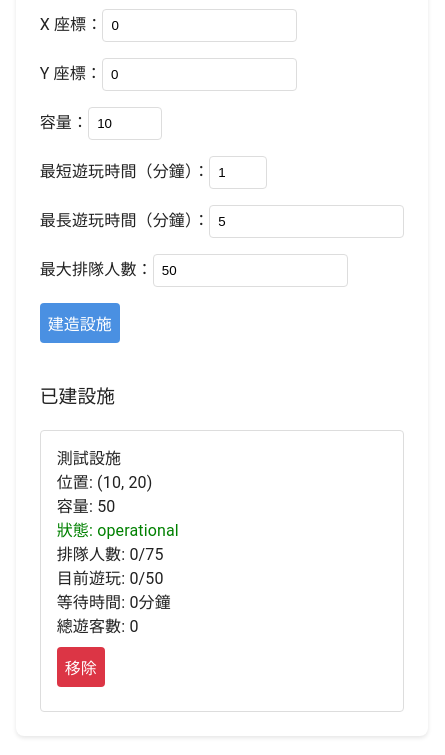
it: FacilityBuilderPanel › 應該能夠儲存設施編輯
(page scrolled)
Click the element with test id "facility-info".
click(118, 542)  # box [57,449,179,636]
(page scrolled)
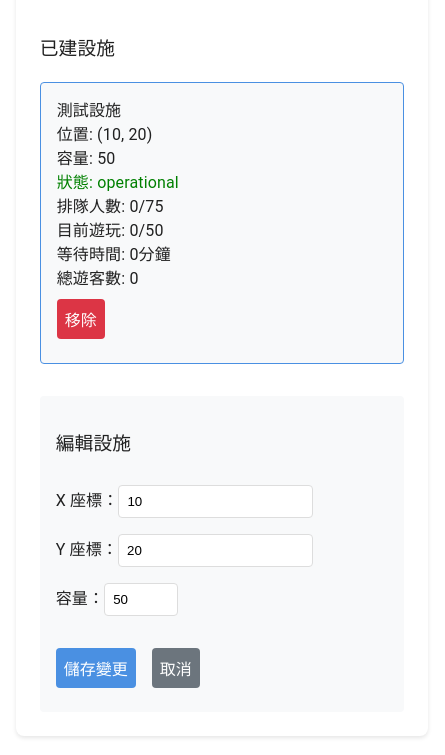
Replace the text in the number field with test id "edit-x-coord" with "15" at [216, 502], box [118,485,313,518]
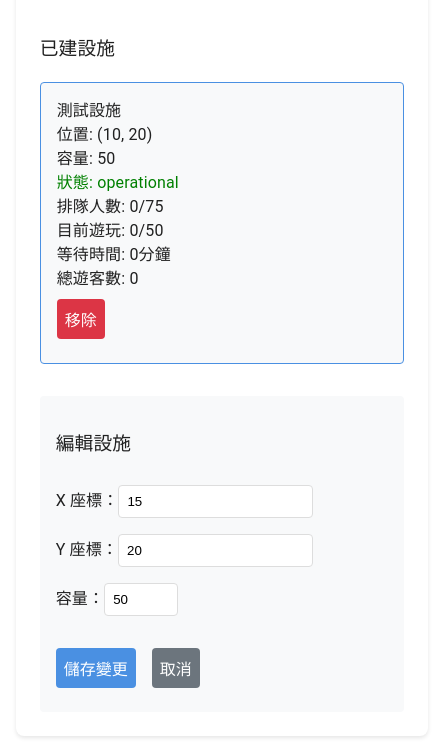
Replace the text in the number field with test id "edit-y-coord" with "25" at [216, 551], box [118,534,313,567]
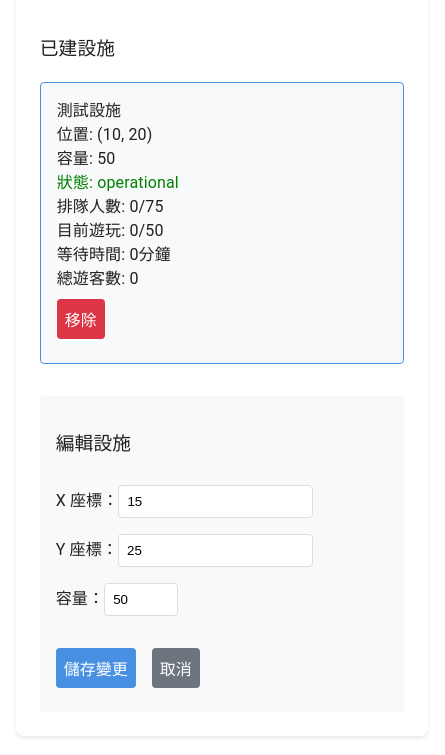
Replace the text in the number field with test id "edit-capacity" with "60" at [141, 600], box [104,583,178,616]
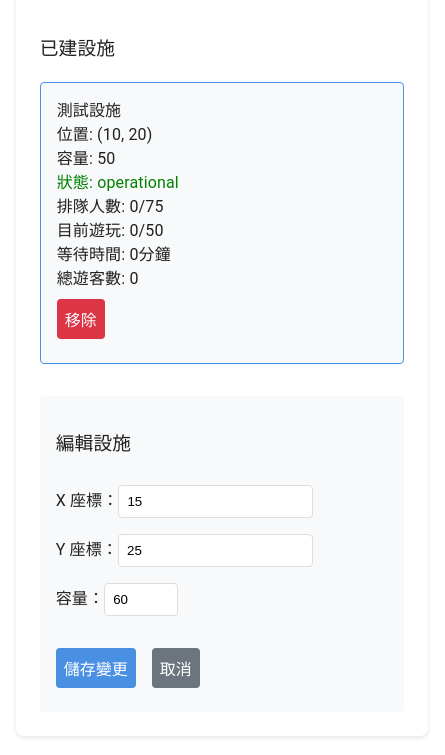
Click the button "儲存變更".
click(96, 668)  # box [56,648,136,688]
(page scrolled)
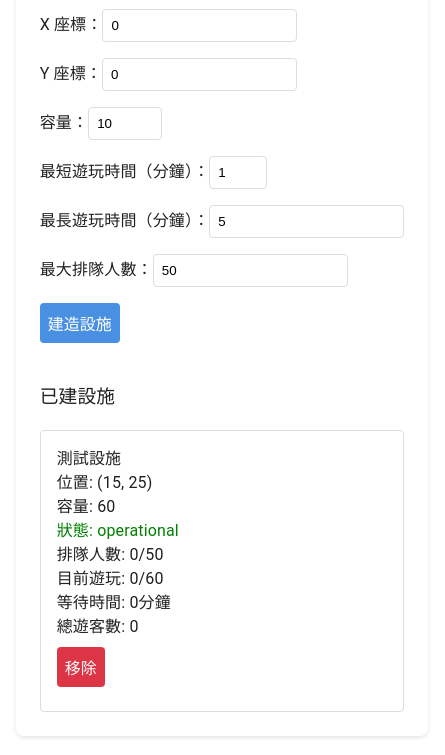
Now the element with test id "facility-info" shows "位置: (15, 25)", box [57,449,179,636]
Now the element with test id "facility-info" shows "容量: 60", box [57,449,179,636]
